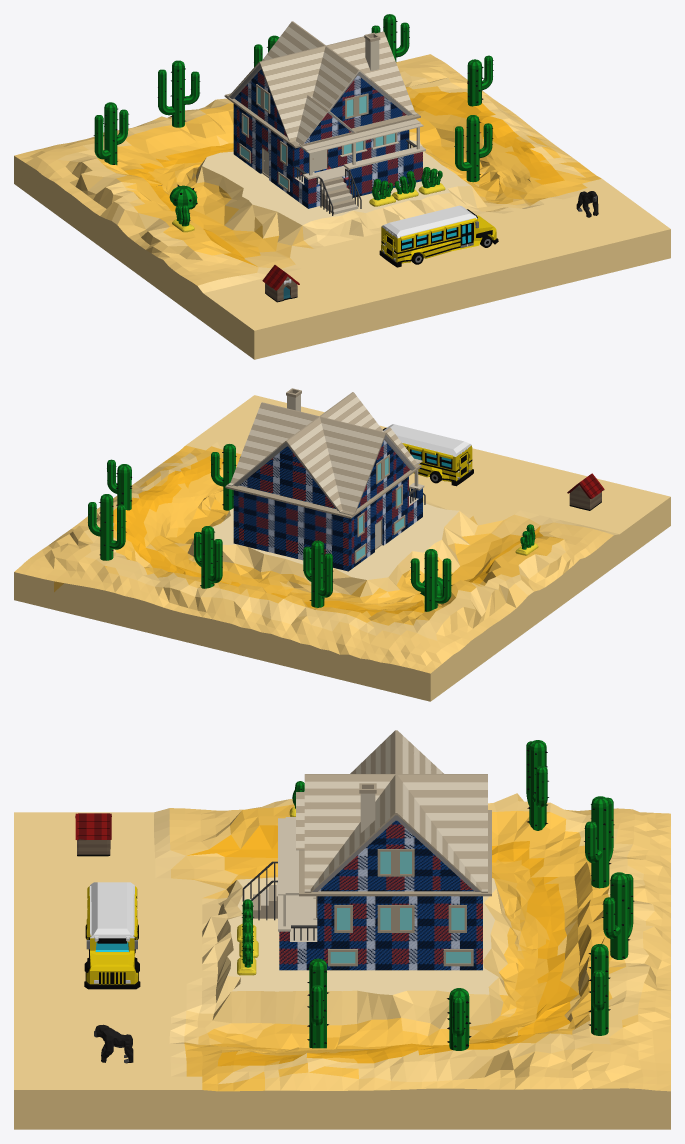
The picture shows the model from 3 angles, top to bottom: view 1: azimuth 30°, elevation 25°; view 2: azimuth 150°, elevation 25°; view 3: azimuth 270°, elevation 25°; orthographic projection. The views are drawn at different scales.
Parts seen in each view (by area): view 1: Cube.001, Cube.171, VEHICLES_SCHOOL_BUS, Cylinder.037, Cylinder.044, Cylinder.045, Cylinder.038, OBJRANDOM_DOGHOUSE, Cylinder.042, Cylinder.039, Cylinder.041, Sphere.023 (+1 smaller); view 2: Cube.001, Cube.171, VEHICLES_SCHOOL_BUS, Cylinder.042, Cylinder.045, Cylinder.044, Cylinder.043, Cylinder.037, Cylinder.038, OBJRANDOM_DOGHOUSE; view 3: Cube.001, Cube.171, VEHICLES_SCHOOL_BUS, Cylinder.043, Cylinder.044, Cylinder.045, Cylinder.042, Cylinder.037, OBJRANDOM_DOGHOUSE, Cylinder.038, ANIMAL_GORILA, Cylinder.041.
Part boxes in pixels (<box>): Cube.001: <box>14,54,670,359</box>; Cube.171: <box>224,21,425,215</box>; VEHICLES_SCHOOL_BUS: <box>379,205,498,267</box>; Cylinder.037: <box>454,115,493,182</box>; Cylinder.044: <box>157,60,200,127</box>; Cylinder.045: <box>93,102,129,164</box>; Cylinder.038: <box>467,55,493,106</box>; OBJRANDOM_DOGHOUSE: <box>262,265,299,302</box>; Cylinder.042: <box>371,14,409,62</box>; Cylinder.039: <box>369,179,395,206</box>; Cylinder.041: <box>418,167,445,194</box>; Sphere.023: <box>169,184,197,209</box>; Cube.001: <box>14,395,670,701</box>; Cube.171: <box>225,388,425,571</box>; VEHICLES_SCHOOL_BUS: <box>383,424,473,486</box>; Cylinder.042: <box>88,494,126,560</box>; Cylinder.045: <box>410,549,452,611</box>; Cylinder.044: <box>303,540,333,607</box>; Cylinder.043: <box>193,526,222,588</box>; Cylinder.037: <box>211,444,240,510</box>; Cylinder.038: <box>107,459,131,510</box>; OBJRANDOM_DOGHOUSE: <box>567,473,604,510</box>; Cube.001: <box>14,793,670,1129</box>; Cube.171: <box>242,730,491,970</box>; VEHICLES_SCHOOL_BUS: <box>84,882,140,989</box>; Cylinder.043: <box>602,872,634,959</box>; Cylinder.044: <box>584,796,614,888</box>; Cylinder.045: <box>526,740,548,830</box>; Cylinder.042: <box>588,944,610,1035</box>; Cylinder.037: <box>307,958,328,1048</box>; OBJRANDOM_DOGHOUSE: <box>75,813,111,856</box>; Cylinder.038: <box>447,988,471,1050</box>; ANIMAL_GORILA: <box>94,1024,133,1063</box>; Cylinder.041: <box>237,932,256,975</box>.
Size of the model in its own units: 4002 by 1605 by 4001.
37 materials, 3 textured.
